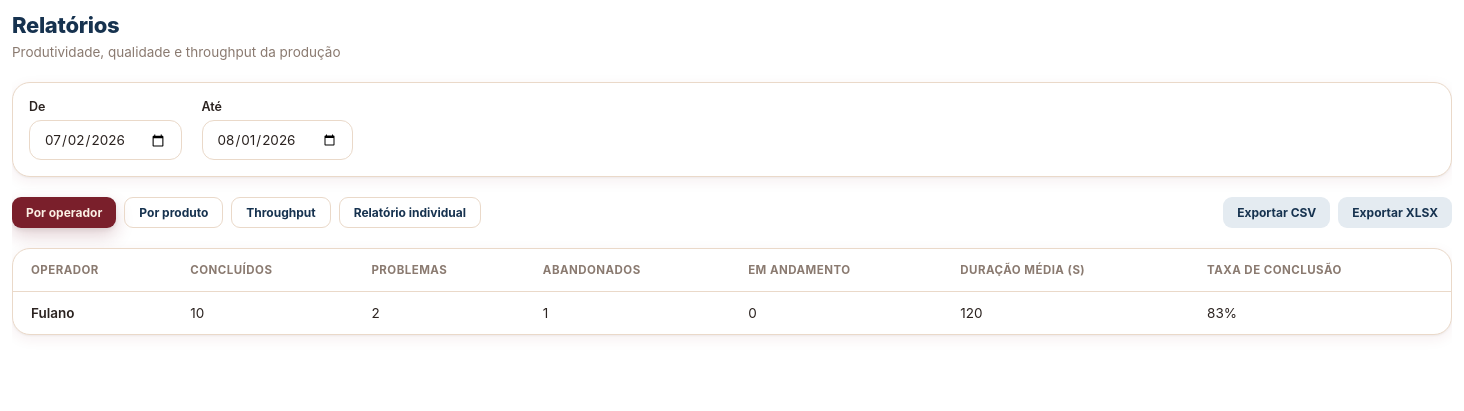
Test: ReportsScreen › mostra e some as sugestões de operador ao focar/desfocar o campo de busca
The image size is (1464, 411).
Expected: the text "Fulano" is shown, [13,292,172,334]
Click the button with test id "tab-operator-report". click: (410, 213)
box: [339,197,481,228]
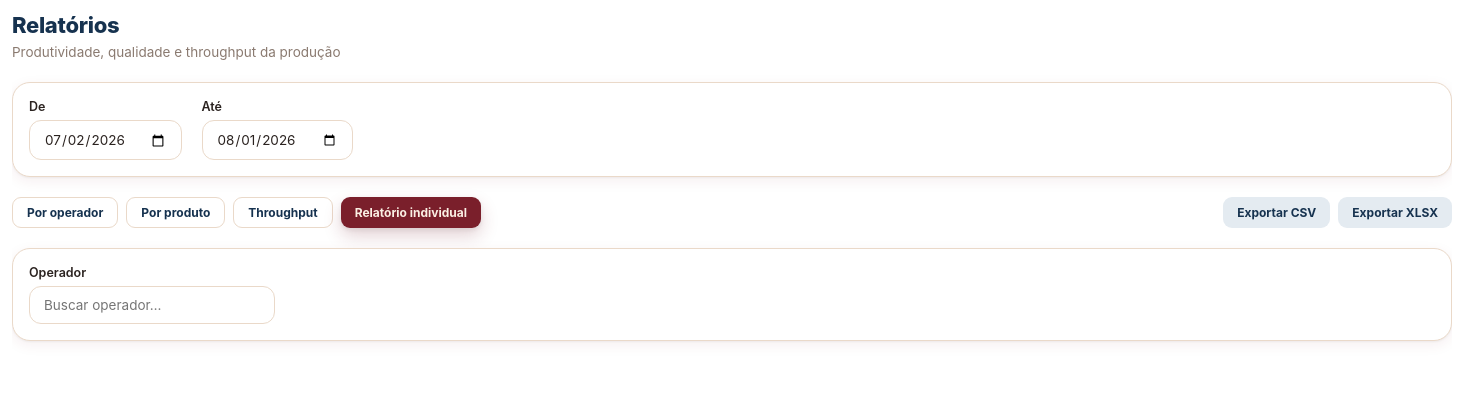
Focus the field with test id "operator-search". click: (152, 305)
box: [29,286,275,324]
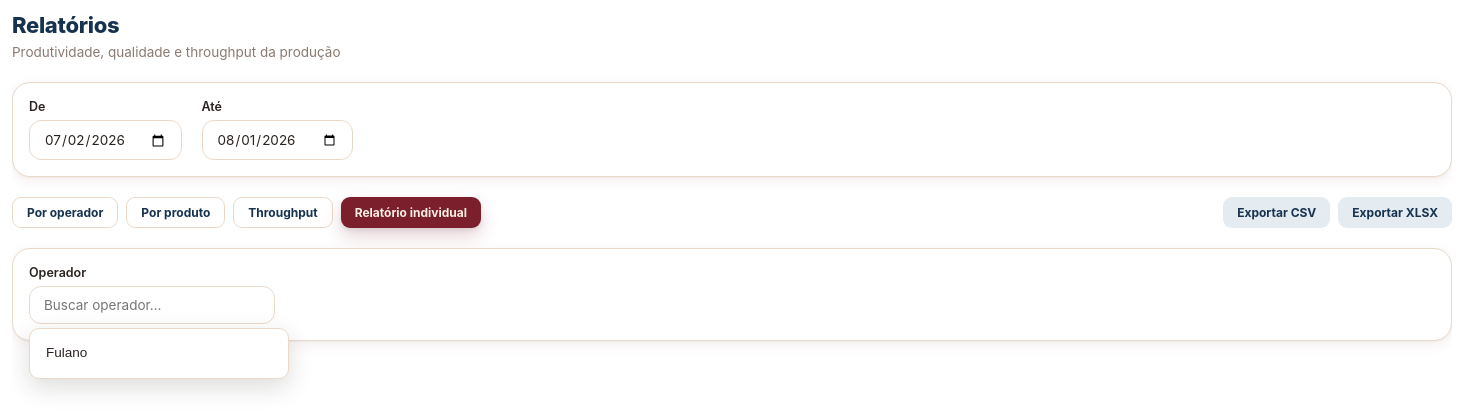
Now the list with test id "operator-suggestions" is shown, box [29,328,289,379]
Leave the field with test id "operator-search", box [29,286,275,324]
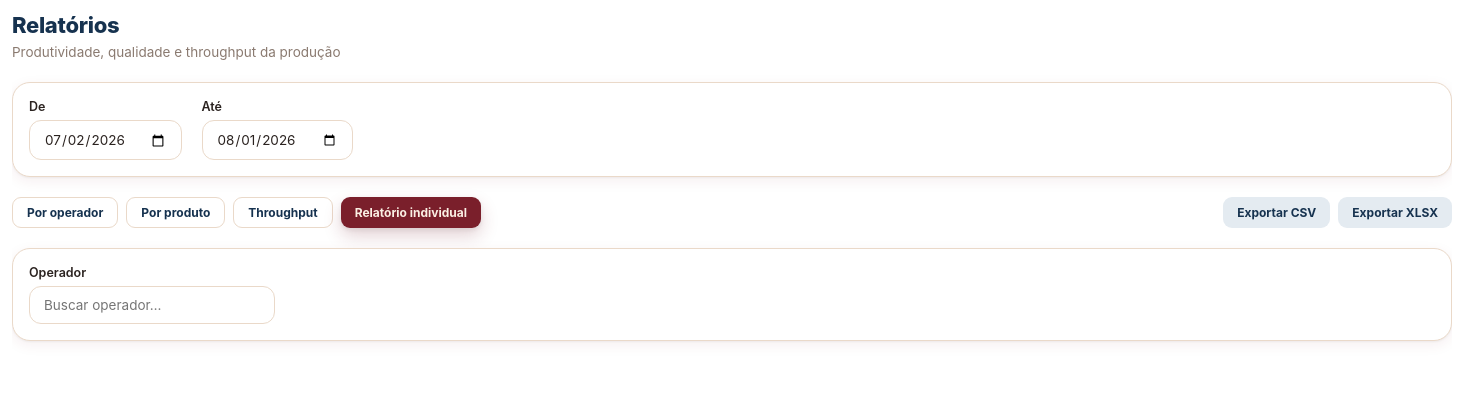
Now the list with test id "operator-suggestions" is gone
